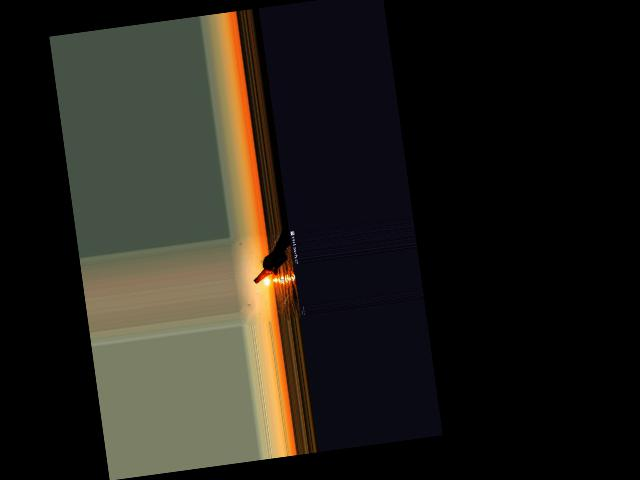beer: (250, 251, 290, 284)
